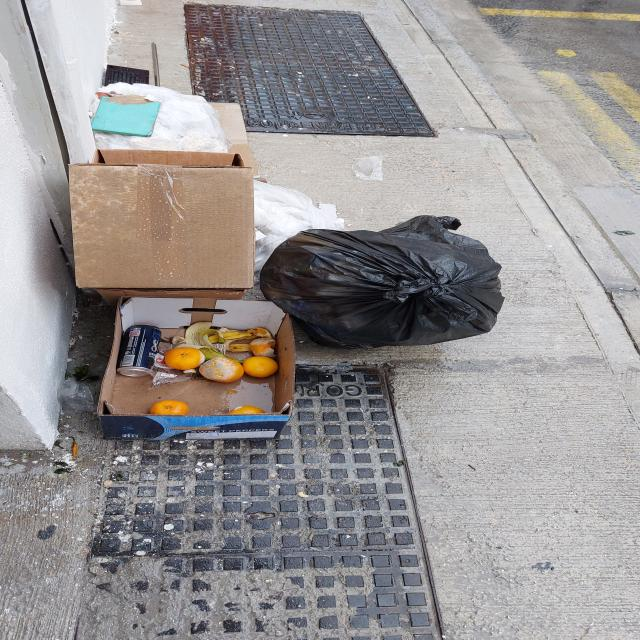Mixed Waste -Black Bag-: (261, 227, 505, 349), (384, 212, 494, 257)
Other: (86, 296, 298, 442), (56, 162, 254, 299), (88, 82, 254, 160), (247, 177, 355, 267), (91, 96, 163, 140)
